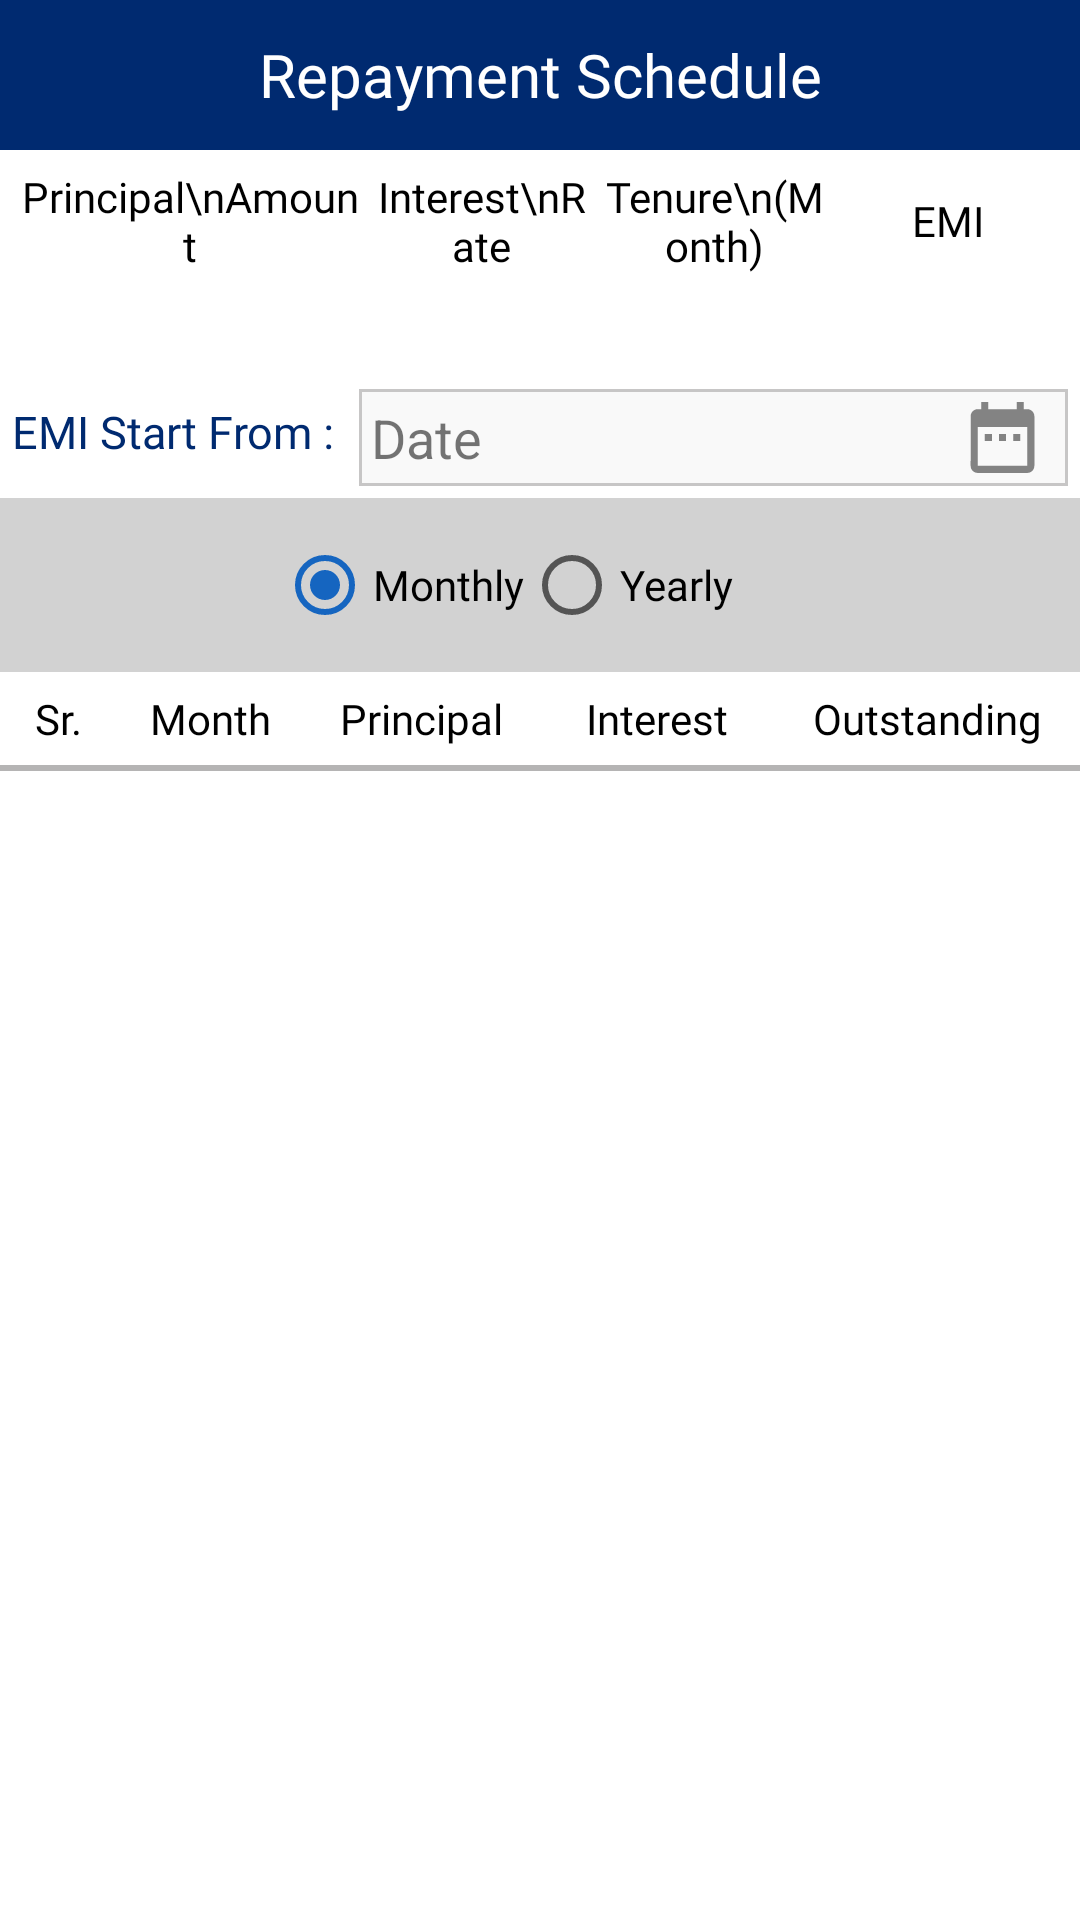

Screen size 1080 x 1920. Icon name, then its center in pixels as [x,y]:
calender: [1002,437]
